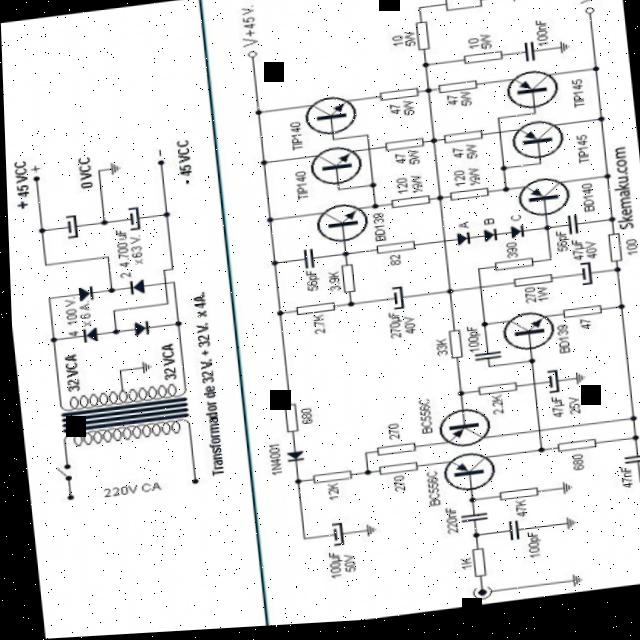capacitor: (380, 282, 410, 318), (572, 261, 599, 298), (494, 519, 525, 551), (517, 41, 541, 73), (467, 350, 503, 371), (559, 214, 582, 246), (449, 513, 487, 532), (321, 521, 345, 551), (539, 371, 562, 401), (294, 248, 318, 276), (57, 212, 78, 242), (121, 204, 141, 234), (614, 458, 640, 477)
diode: (73, 320, 103, 348), (276, 445, 304, 469), (122, 276, 148, 301), (125, 318, 151, 339), (71, 283, 93, 305), (450, 233, 472, 253), (503, 225, 525, 245), (476, 232, 501, 249)
ground: (550, 518, 576, 544), (555, 576, 583, 598), (547, 481, 575, 503), (565, 372, 588, 397), (132, 359, 155, 377), (102, 159, 124, 177), (356, 523, 374, 543), (553, 45, 571, 62), (504, 0, 524, 8), (638, 475, 640, 499)
inductor: (44, 376, 188, 417), (51, 411, 189, 451)
node: (594, 175, 614, 193), (516, 359, 539, 373), (418, 87, 437, 103), (449, 388, 465, 406), (621, 416, 639, 432), (265, 310, 287, 322), (248, 109, 266, 123), (434, 289, 455, 301), (472, 324, 493, 336), (599, 219, 617, 233), (333, 251, 353, 263), (251, 159, 268, 173), (462, 534, 477, 549), (425, 139, 441, 153), (608, 307, 628, 318), (361, 204, 379, 216), (493, 188, 511, 200), (167, 319, 182, 333), (43, 332, 58, 346), (622, 438, 637, 452), (585, 70, 604, 81), (338, 301, 355, 313), (107, 324, 122, 337), (605, 271, 621, 283), (101, 285, 117, 297), (260, 217, 273, 231), (32, 223, 47, 235), (418, 63, 433, 75), (364, 184, 377, 197), (287, 477, 302, 488), (538, 228, 553, 239), (590, 121, 605, 132), (264, 260, 277, 272), (156, 211, 171, 221), (430, 197, 445, 207), (530, 450, 545, 460), (494, 168, 507, 179), (458, 501, 473, 510)
resistor: (379, 191, 434, 223), (359, 238, 417, 267), (502, 276, 556, 300), (548, 440, 598, 464), (368, 461, 422, 483), (286, 301, 337, 324), (435, 80, 483, 103), (379, 138, 426, 161), (442, 188, 489, 211), (305, 468, 356, 489), (465, 384, 516, 404), (487, 258, 538, 278), (333, 263, 360, 300), (374, 88, 419, 110), (458, 53, 505, 74), (368, 442, 415, 462), (557, 307, 604, 327), (600, 235, 624, 273), (438, 132, 485, 151), (488, 491, 539, 508), (408, 23, 432, 59), (277, 400, 298, 438), (464, 547, 485, 585), (441, 330, 460, 366)
switch: (48, 458, 72, 485)
transistor: (507, 115, 574, 172), (492, 310, 559, 363), (427, 452, 497, 502), (305, 202, 372, 253), (425, 410, 493, 459), (509, 179, 575, 227), (302, 143, 362, 194), (500, 71, 562, 119), (301, 91, 359, 142)
